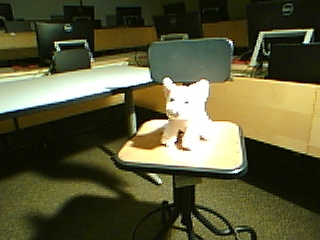piggy: (158, 76, 215, 152)
